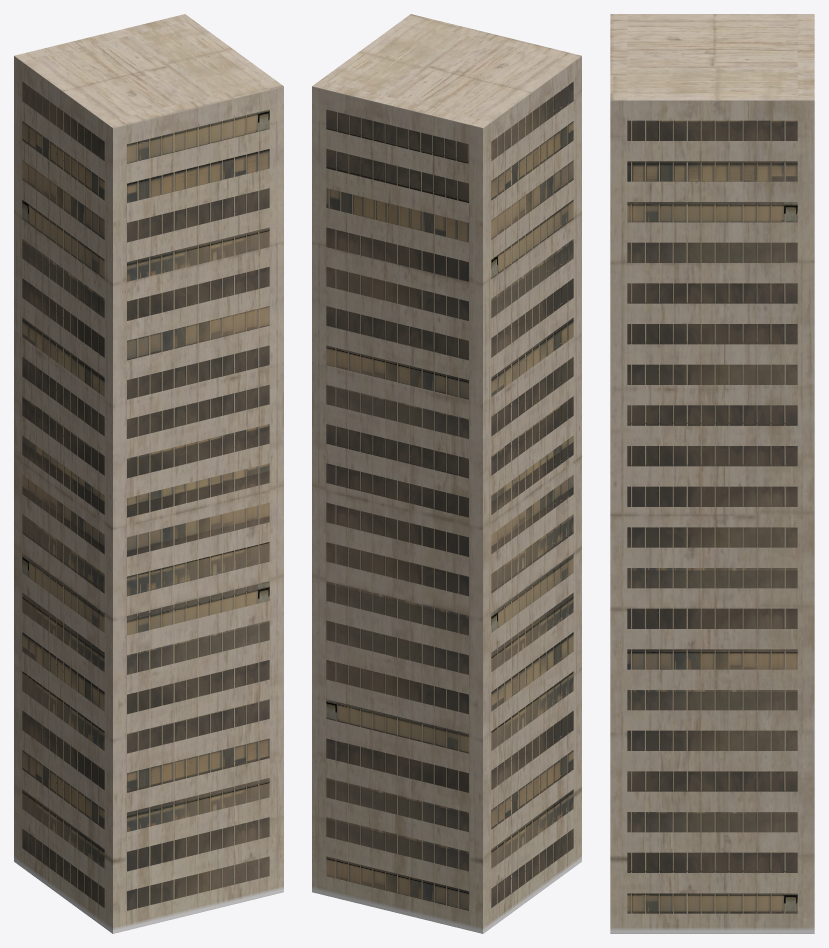
The model's file is HighRise01.fbx.
3 renders of one model, left to right at view 1: azimuth 30°, elevation 25°; view 2: azimuth 150°, elevation 25°; view 3: azimuth 270°, elevation 25°, orthographic. The views are drawn at different scales.
Visible parts, largest first — view 1: HighRise01; view 2: HighRise01; view 3: HighRise01.
Boxes of the visible parts, x1=… form: HighRise01: x1=14, y1=14, x2=283, y2=933; HighRise01: x1=312, y1=14, x2=581, y2=933; HighRise01: x1=610, y1=14, x2=814, y2=933.
Bounding box in the file's own units: 200 × 900 × 200.
